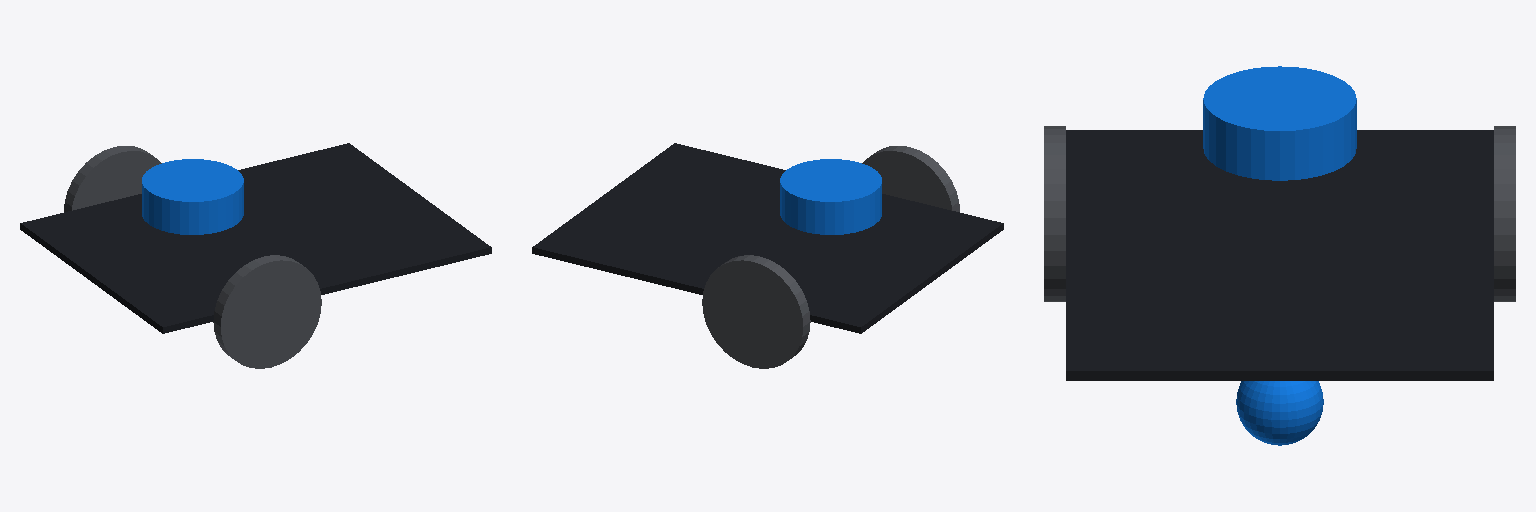
robot.urdf — mapping_robot:
<?xml version="1.0" ?>
<!-- =================================================================================== -->
<!-- |    This document was autogenerated by xacro from /Users/adrithk/Developer/my_bot/description/robot.urdf.xacro | -->
<!-- |    EDITING THIS FILE BY HAND IS NOT RECOMMENDED                                 | -->
<!-- =================================================================================== -->
<robot name="mapping_robot">
  <material name="chassis_black">
    <color rgba="0.15 0.16 0.18 1"/>
  </material>
  <material name="tire_gray">
    <color rgba="0.35 0.36 0.38 1"/>
  </material>
  <material name="front_blue">
    <color rgba="0.1 0.5 0.9 1"/>
  </material>
  <link name="base_link"/>
  <!-- A thin rectangular approximation of the whole length, including front
       extension. Plate thickness is visual-only and unmeasured. -->
  <link name="chassis">
    <inertial>
      <origin xyz="0 0 0.03"/>
      <mass value="1.2300000000000002"/>
      <inertia ixx="0.0045535624999999995" ixy="0" ixz="0" iyy="0.007585000000000002" iyz="0" izz="0.010826562500000003"/>
    </inertial>
    <visual>
      <geometry>
        <box size="0.26 0.19499999999999998 0.005"/>
      </geometry>
      <material name="chassis_black"/>
    </visual>
    <collision>
      <geometry>
        <box size="0.26 0.19499999999999998 0.005"/>
      </geometry>
    </collision>
  </link>
  <joint name="chassis_joint" type="fixed">
    <parent link="base_link"/>
    <child link="chassis"/>
    <origin xyz="0.049999999999999996 0 0.0425"/>
  </joint>
  <link name="left_wheel">
    <inertial>
      <origin rpy="1.5707963267948966 0 0" xyz="0 0 0"/>
      <mass value="0.08"/>
      <inertia ixx="3.266666666666666e-05" ixy="0" ixz="0" iyy="3.266666666666666e-05" iyz="0" izz="6.400000000000001e-05"/>
    </inertial>
    <visual>
      <origin rpy="1.5707963267948966 0 0"/>
      <geometry>
        <cylinder length="0.010000000000000009" radius="0.04"/>
      </geometry>
      <material name="tire_gray"/>
    </visual>
    <collision>
      <origin rpy="1.5707963267948966 0 0"/>
      <geometry>
        <cylinder length="0.010000000000000009" radius="0.04"/>
      </geometry>
    </collision>
  </link>
  <joint name="left_wheel_joint" type="continuous">
    <parent link="base_link"/>
    <child link="left_wheel"/>
    <origin xyz="0 0.1025 0.04"/>
    <axis xyz="0 1 0"/>
    <limit effort="0.3" velocity="12.5"/>
  </joint>
  <link name="right_wheel">
    <inertial>
      <origin rpy="1.5707963267948966 0 0" xyz="0 0 0"/>
      <mass value="0.08"/>
      <inertia ixx="3.266666666666666e-05" ixy="0" ixz="0" iyy="3.266666666666666e-05" iyz="0" izz="6.400000000000001e-05"/>
    </inertial>
    <visual>
      <origin rpy="1.5707963267948966 0 0"/>
      <geometry>
        <cylinder length="0.010000000000000009" radius="0.04"/>
      </geometry>
      <material name="tire_gray"/>
    </visual>
    <collision>
      <origin rpy="1.5707963267948966 0 0"/>
      <geometry>
        <cylinder length="0.010000000000000009" radius="0.04"/>
      </geometry>
    </collision>
  </link>
  <joint name="right_wheel_joint" type="continuous">
    <parent link="base_link"/>
    <child link="right_wheel"/>
    <origin xyz="0 -0.1025 0.04"/>
    <axis xyz="0 1 0"/>
    <limit effort="0.3" velocity="12.5"/>
  </joint>
  <!-- Fixed sphere depicts the front support; size/position are provisional. -->
  <link name="caster">
    <inertial>
      <mass value="0.04"/>
      <inertia ixx="6.4000000000000006e-06" ixy="0" ixz="0" iyy="6.4000000000000006e-06" iyz="0" izz="6.4000000000000006e-06"/>
    </inertial>
    <visual>
      <geometry>
        <sphere radius="0.02"/>
      </geometry>
      <material name="front_blue"/>
    </visual>
    <collision>
      <geometry>
        <sphere radius="0.02"/>
      </geometry>
    </collision>
  </link>
  <joint name="caster_joint" type="fixed">
    <parent link="base_link"/>
    <child link="caster"/>
    <origin xyz="0.16 0 0.02"/>
  </joint>
  <link name="laser">
    <inertial>
      <origin rpy="0 0 0" xyz="0 0 -0.0145"/>
      <mass value="0.17"/>
      <inertia ixx="6.0916666666666686e-05" ixy="0" ixz="0" iyy="6.0916666666666686e-05" iyz="0" izz="0.00010412500000000004"/>
    </inertial>
    <visual>
      <!-- Keep the visual below the scan plane to avoid self-obstruction. -->
      <origin xyz="0 0 -0.0145"/>
      <geometry>
        <cylinder length="0.025" radius="0.035"/>
      </geometry>
      <material name="front_blue"/>
    </visual>
  </link>
  <joint name="laser_joint" type="fixed">
    <parent link="base_link"/>
    <child link="laser"/>
    <origin rpy="0 0 0.0" xyz="0.0 0.0 0.10"/>
  </joint>
</robot>

--- What the picture shows (computed from the rendered views, not written in the file) ---
The picture shows the robot from 3 angles, left to right: view 1: azimuth 30°, elevation 25°; view 2: azimuth 150°, elevation 25°; view 3: azimuth 270°, elevation 25°; orthographic projection.
Robot: mapping_robot — 6 links, 5 joints (2 continuous, 3 fixed); root link base_link; default pose: every joint at zero.
Links seen in each view (by area): view 1: chassis, right_wheel, laser, left_wheel; view 2: chassis, left_wheel, laser, right_wheel; view 3: chassis, laser, caster, left_wheel, right_wheel.
Boxes of the visible links, left/top/right/bottom form: chassis: left=20, top=143, right=491, bottom=333; right_wheel: left=213, top=255, right=321, bottom=368; laser: left=142, top=159, right=243, bottom=234; left_wheel: left=64, top=146, right=161, bottom=211; chassis: left=532, top=143, right=1003, bottom=333; left_wheel: left=702, top=255, right=810, bottom=368; laser: left=780, top=159, right=881, bottom=234; right_wheel: left=862, top=146, right=959, bottom=211; chassis: left=1066, top=130, right=1493, bottom=380; laser: left=1203, top=66, right=1356, bottom=180; caster: left=1236, top=381, right=1323, bottom=445; left_wheel: left=1494, top=126, right=1515, bottom=301; right_wheel: left=1044, top=126, right=1065, bottom=301.
Bounding box of the posed robot: 0.26 × 0.215 × 0.098 m (x, y, z).
Geometry: primitives only (box / cylinder / sphere), no mesh files.
